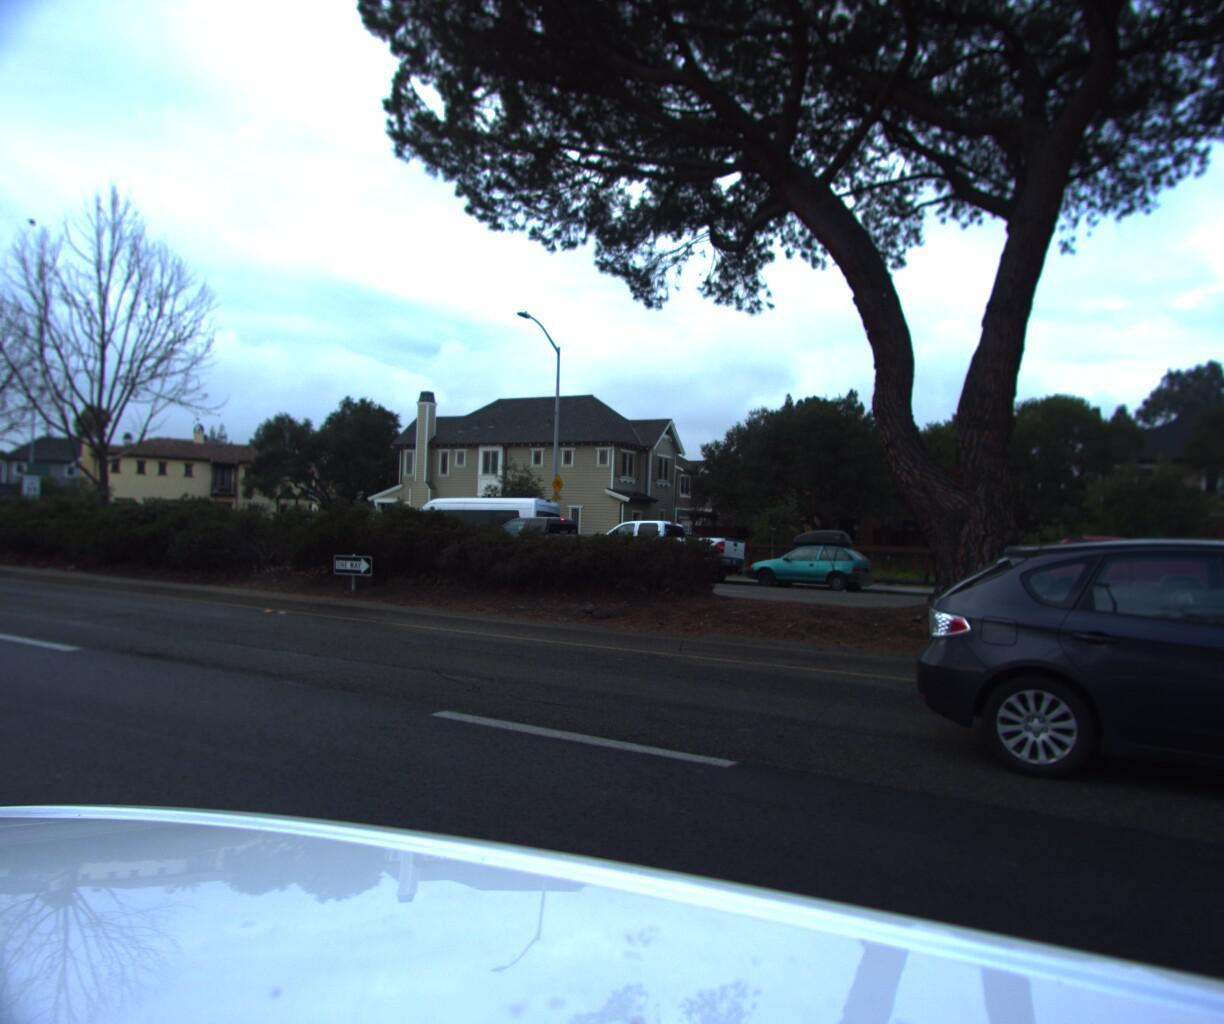car: (888, 526, 1224, 907), (969, 528, 1224, 620), (372, 490, 570, 578), (555, 516, 753, 589), (449, 513, 590, 577), (744, 526, 879, 592)
